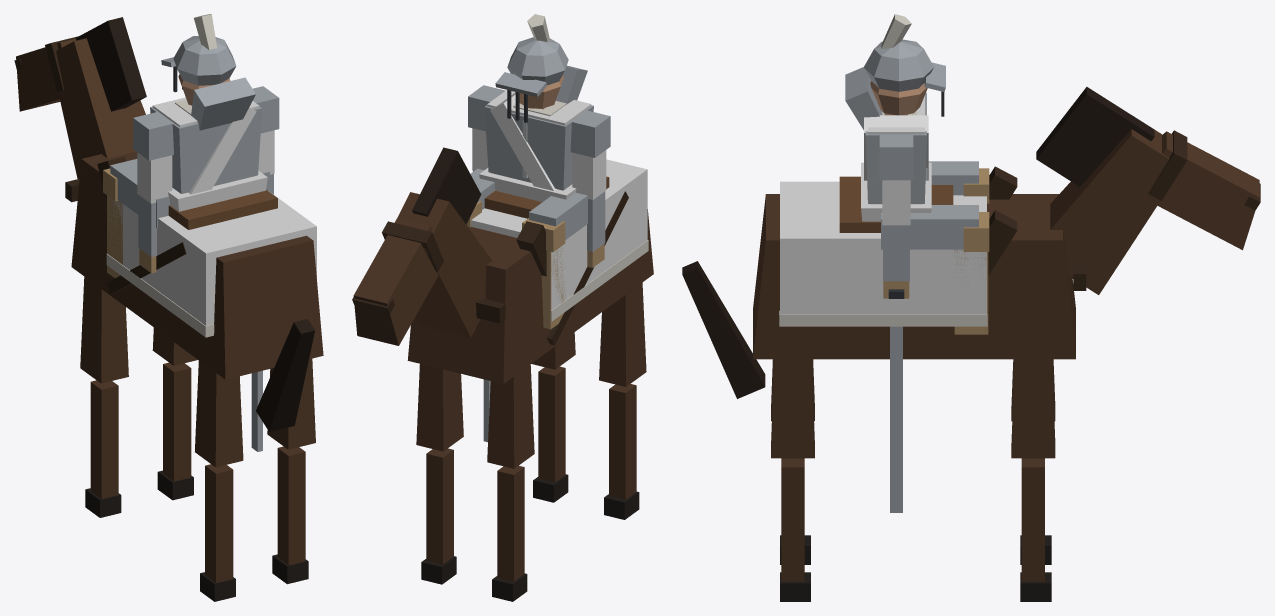
File: cavalry_em_cuirassier_lod0.glb
The picture shows the model from 3 angles, left to right: view 1: azimuth 30°, elevation 25°; view 2: azimuth 150°, elevation 25°; view 3: azimuth 270°, elevation 25°; orthographic projection. The views are drawn at different scales.
Parts seen in each view (by area): view 1: em_cuirassier_lod0_static; view 2: em_cuirassier_lod0_static; view 3: em_cuirassier_lod0_static.
Boxes of the visible parts, x1,y1,x2,y2 form: em_cuirassier_lod0_static: [14, 14, 323, 601]; em_cuirassier_lod0_static: [352, 14, 653, 601]; em_cuirassier_lod0_static: [682, 14, 1260, 601].
Bounding box in the file's own units: 0.615 × 2.4 × 2.24.
